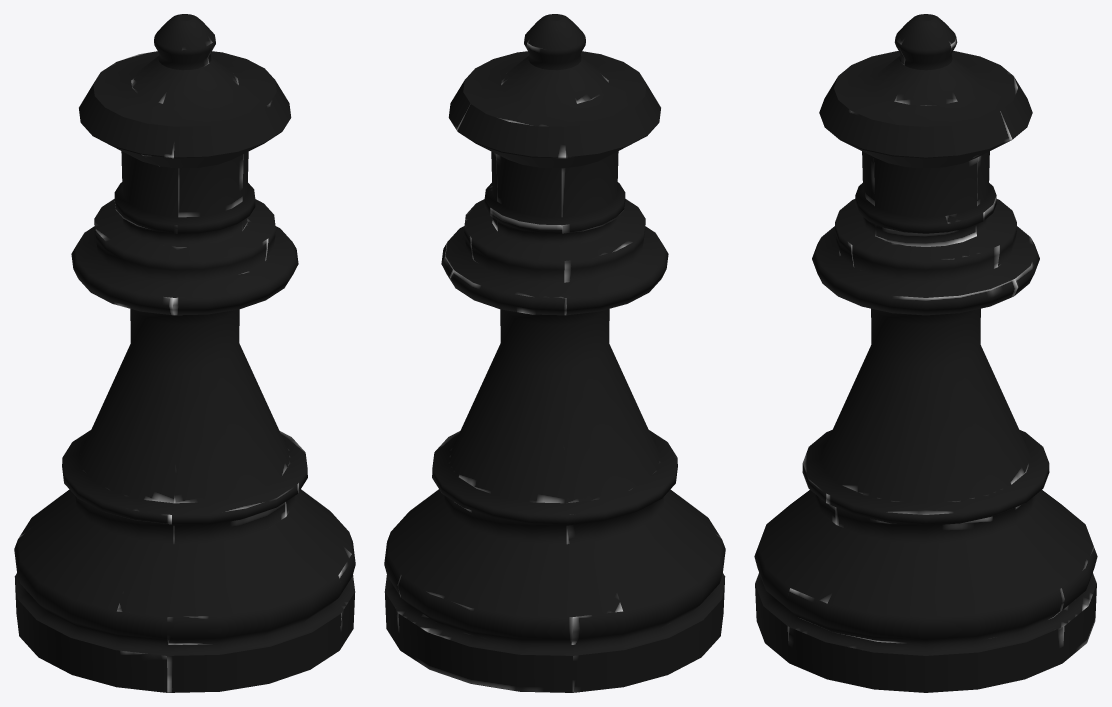
The model's file is Queen_Black.fbx.
3 renders of one model, left to right at view 1: azimuth 30°, elevation 25°; view 2: azimuth 150°, elevation 25°; view 3: azimuth 270°, elevation 25°, orthographic.
Visible parts, largest first — view 1: rani2.001; view 2: rani2.001; view 3: rani2.001.
Boxes of the visible parts, x1,y1,x2,y2 form: rani2.001: [14, 14, 355, 692]; rani2.001: [384, 14, 725, 692]; rani2.001: [754, 14, 1097, 692].
Size of the model in its own units: 2.4 by 4.66 by 2.4.
